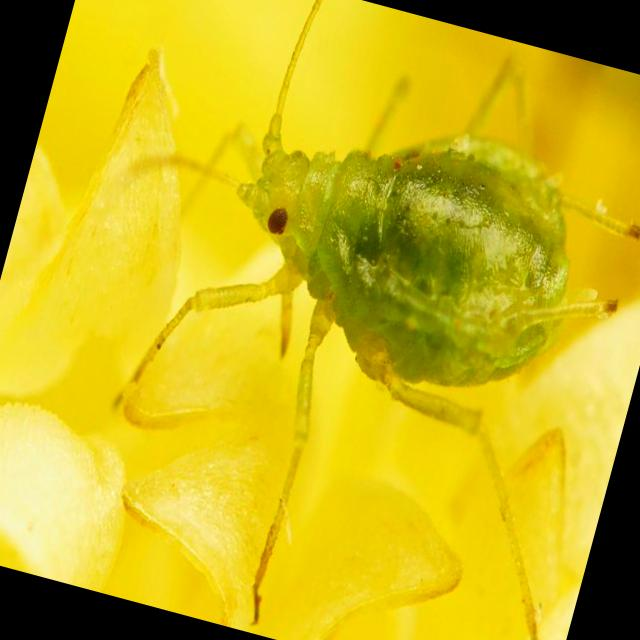Aphid: (128, 39, 640, 553)
